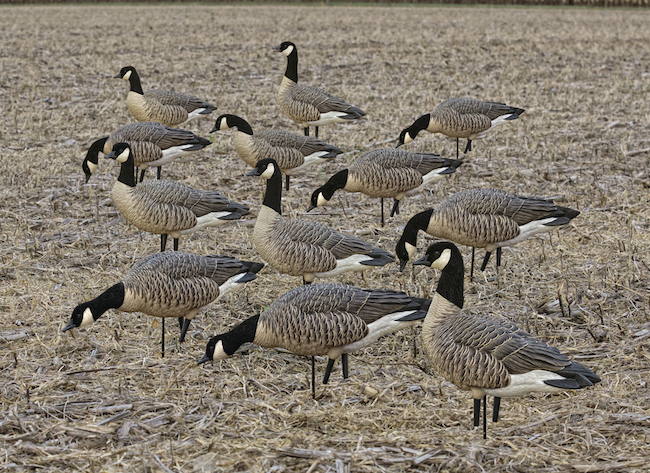goose: (411, 243, 601, 429), (193, 282, 434, 389), (60, 248, 266, 351), (241, 156, 397, 281), (393, 186, 583, 271), (104, 142, 249, 247), (305, 147, 461, 216), (270, 40, 368, 134), (212, 111, 335, 176), (388, 94, 527, 151), (77, 120, 211, 175), (113, 64, 219, 124)
